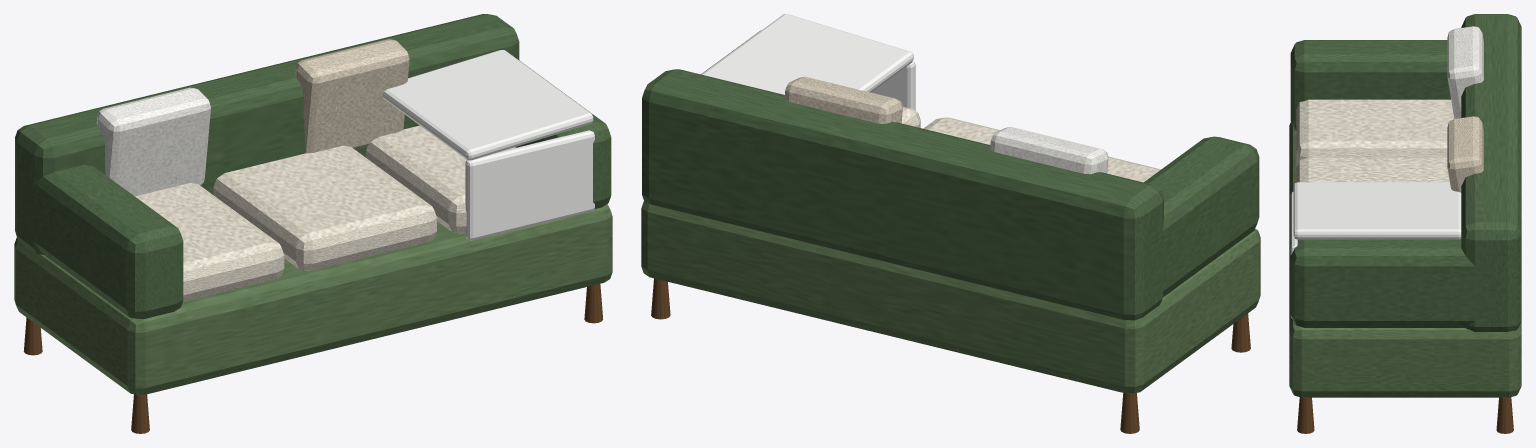
File: sofa.glb
3 views of the same model, side by side, from view 1: azimuth 30°, elevation 25°; view 2: azimuth 150°, elevation 25°; view 3: azimuth 270°, elevation 25° (orthographic). The views are drawn at different scales.
Parts seen in each view (by area): view 1: sofa_base, sofa_back, cush1, armL, blanketA, blanketB, throwR, throwL, cush0, cush2, armR, leg-11 (+2 smaller); view 2: sofa_back, sofa_base, armL, blanketA, throwL, throwR, blanketB, cush1, cush0, leg-1-1, leg1-1, leg-11; view 3: armR, sofa_base, sofa_back, blanketA, armL, cush0, cush1, throwL, throwR, leg1-1, leg11, blanketB.
Boxes of the visible parts, box(x1,y1,x2,y2) form: sofa_base: box(14, 204, 612, 395); sofa_back: box(15, 14, 519, 254); cush1: box(213, 145, 436, 270); armL: box(23, 164, 183, 319); blanketA: box(382, 50, 593, 160); blanketB: box(465, 130, 594, 240); throwR: box(295, 39, 409, 153); throwL: box(96, 87, 210, 196); cush0: box(135, 183, 284, 301); cush2: box(366, 125, 515, 233); armR: box(515, 60, 611, 208); leg-11: box(131, 394, 149, 433); sofa_back: box(642, 69, 1163, 320); sofa_base: box(641, 201, 1260, 393); armL: box(1144, 136, 1259, 299); blanketA: box(701, 14, 913, 94); throwL: box(990, 127, 1108, 174); throwR: box(784, 76, 902, 123); blanketB: box(871, 61, 915, 110); cush1: box(923, 117, 999, 144); cush0: box(1107, 156, 1160, 182); leg-1-1: box(1120, 393, 1139, 433); leg1-1: box(651, 278, 670, 319); leg-11: box(1231, 313, 1250, 352); armR: box(1290, 239, 1495, 327); sofa_base: box(1289, 122, 1521, 397); sofa_back: box(1461, 14, 1521, 331); blanketA: box(1293, 182, 1461, 239); armL: box(1290, 40, 1450, 130); cush0: box(1296, 99, 1454, 166); cush1: box(1296, 157, 1449, 182); throwL: box(1447, 26, 1483, 118); throwR: box(1447, 116, 1483, 192); leg1-1: box(1496, 397, 1513, 433); leg11: box(1297, 397, 1314, 433); blanketB: box(1290, 191, 1297, 318).
Bounding box in the file's own units: 1.9 × 0.9032 × 0.85.
Materials: 7 (6 with a texture image).
